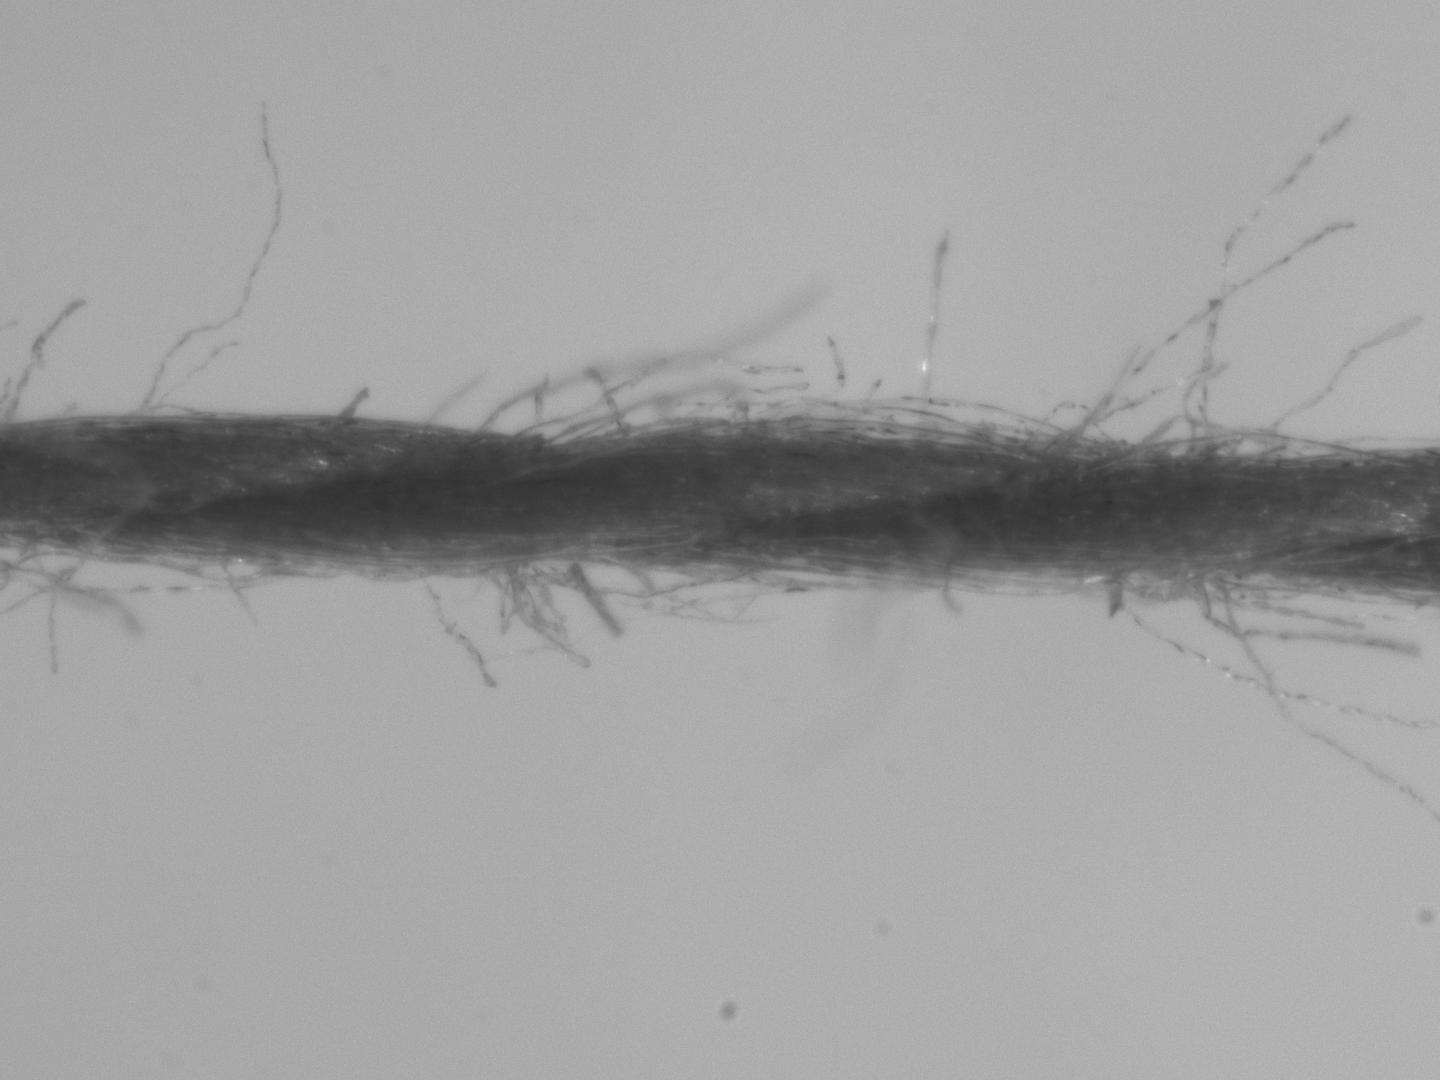loop_fiber: (500, 379, 1264, 466), (26, 541, 314, 596)
protruding_fiber: (1068, 221, 1364, 449), (1214, 568, 1437, 826), (1192, 112, 1352, 442), (1107, 571, 1439, 728), (126, 87, 283, 414), (1257, 311, 1424, 453), (410, 571, 507, 697), (3, 288, 88, 427), (907, 216, 958, 441), (421, 368, 488, 424), (324, 378, 371, 420)
